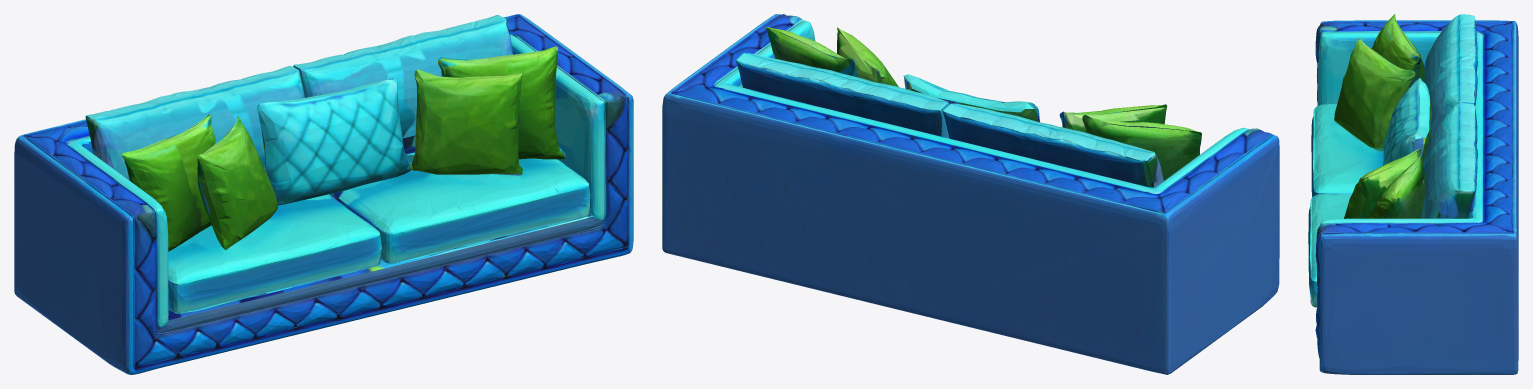
File: edited_mesh.glb
The picture shows the model from 3 angles, left to right: view 1: azimuth 30°, elevation 25°; view 2: azimuth 150°, elevation 25°; view 3: azimuth 270°, elevation 25°; orthographic projection. The views are drawn at different scales.
Parts seen in each view (by area): view 1: solid_001_wire; view 2: solid_001_wire; view 3: solid_001_wire.
Part boxes in pixels (box(x1,y1,x2,y2)): solid_001_wire: box(14, 14, 633, 374); solid_001_wire: box(662, 14, 1279, 374); solid_001_wire: box(1308, 14, 1518, 374).
Size of the model in its own units: 2 by 0.7095 by 0.8163.
Materials: 1 (1 with a texture image).
